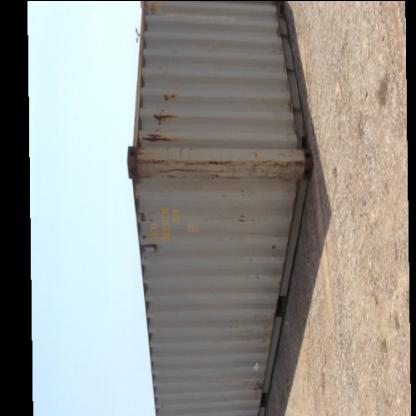Damage: (125, 146, 299, 184), (138, 86, 176, 145), (140, 208, 162, 263), (242, 353, 266, 399), (222, 200, 255, 230), (261, 236, 285, 260)
